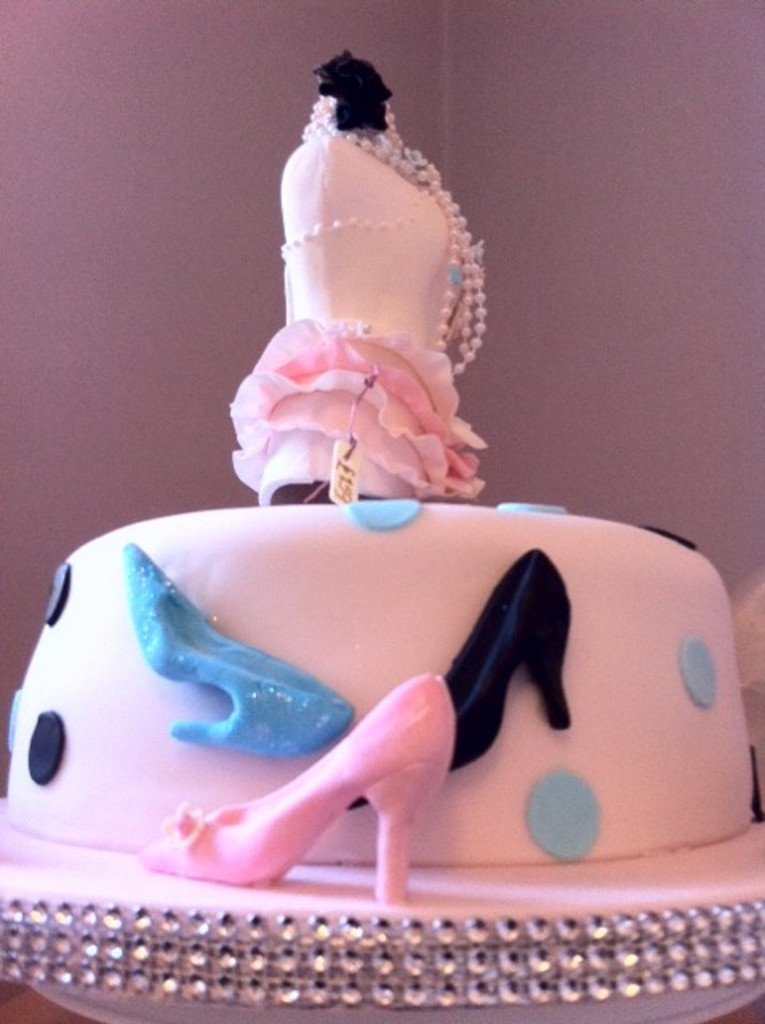cake: (0, 54, 763, 1008)
